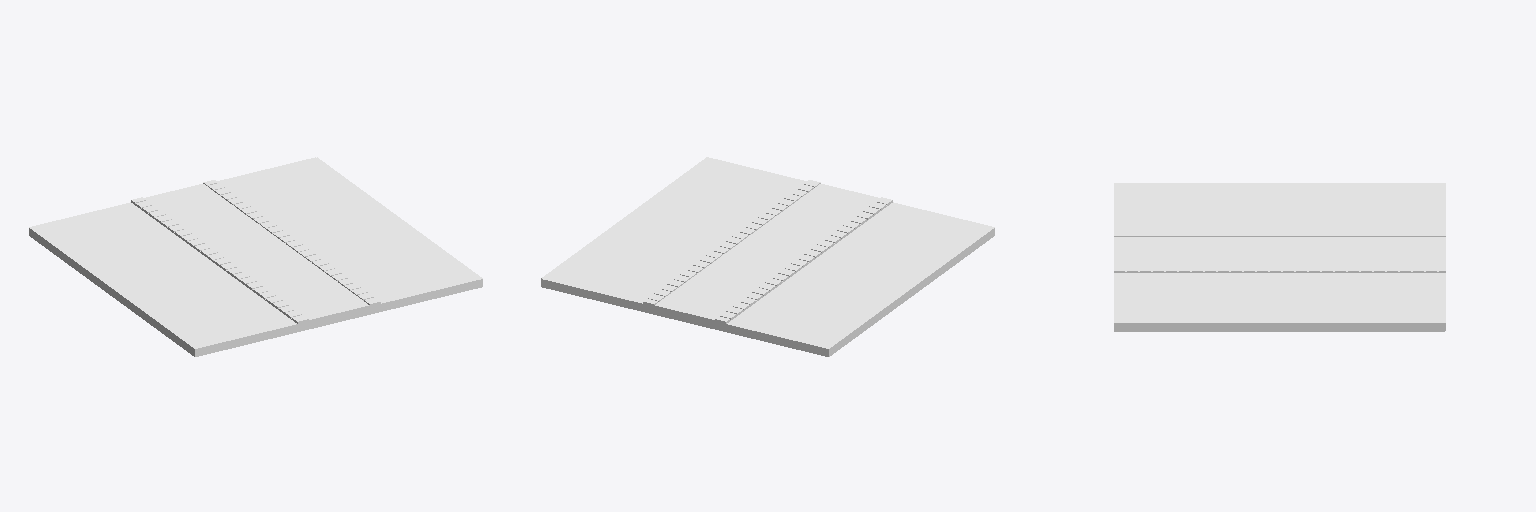
The model's file is roadLine1.obj.
3 views of the same model, side by side, from view 1: azimuth 30°, elevation 25°; view 2: azimuth 150°, elevation 25°; view 3: azimuth 270°, elevation 25° (orthographic).
Parts seen in each view (by area): view 1: object 1; view 2: object 1; view 3: object 1.
Part boxes in pixels (bbox=[...]): object 1: bbox=[29, 157, 482, 356]; object 1: bbox=[541, 157, 994, 356]; object 1: bbox=[1114, 183, 1445, 331].
Bounding box in the file's own units: 25.6 × 0.9 × 25.6.